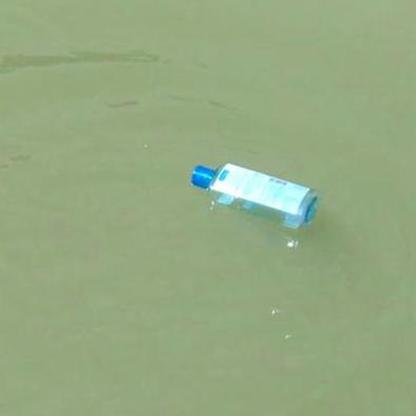plastic bottle: (191, 164, 317, 227)
